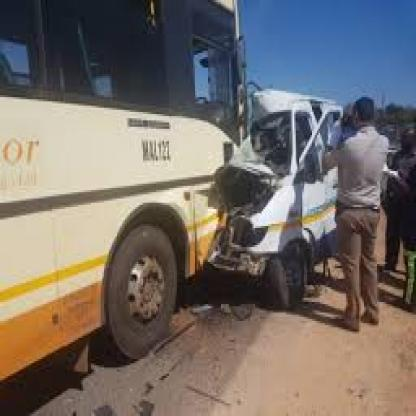accident: (110, 1, 376, 378)
